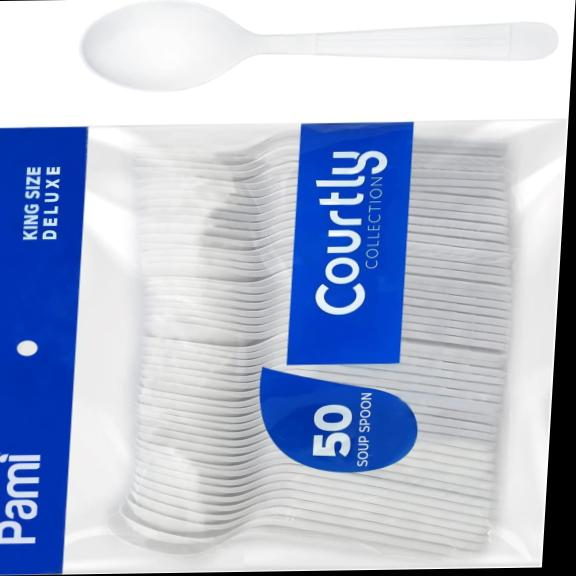Plastik: (81, 0, 556, 91)
